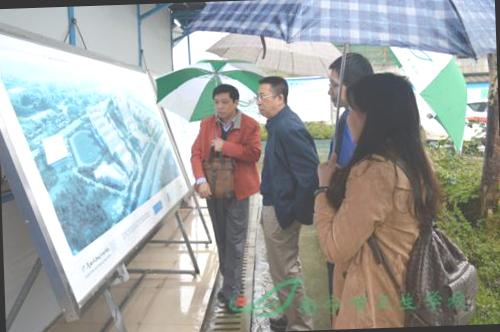no_helmet: (346, 68, 426, 150), (327, 52, 372, 108), (252, 72, 295, 120), (207, 82, 241, 122)
